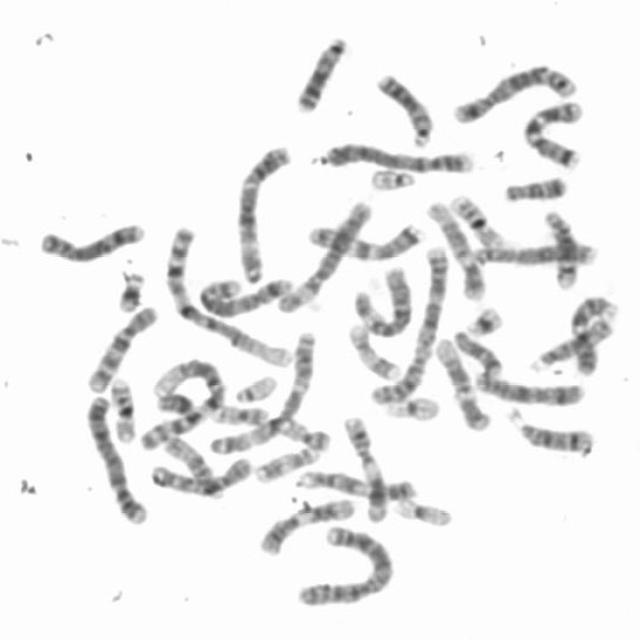A1: (162, 224, 296, 369), (138, 356, 229, 452)
A2: (369, 245, 452, 407), (294, 524, 395, 608)
A3: (206, 328, 316, 456), (235, 143, 294, 287)
B4: (83, 394, 152, 527), (324, 141, 474, 176)
B5: (451, 61, 580, 126), (196, 274, 293, 320)
C10: (83, 305, 159, 395), (150, 453, 254, 500)
C11: (256, 496, 356, 558), (340, 415, 389, 524)
C12: (424, 199, 487, 303), (433, 337, 494, 433)
C6: (273, 198, 373, 316), (352, 265, 414, 339)
C7: (306, 220, 425, 264), (521, 98, 585, 172)
C8: (38, 221, 148, 266), (472, 241, 598, 268)
C9: (569, 294, 620, 376), (302, 469, 419, 502)
D13: (375, 72, 434, 149), (294, 36, 350, 114)
D14: (503, 406, 596, 456), (540, 209, 582, 291)
D15: (528, 316, 615, 373), (163, 433, 226, 502)
E16: (447, 193, 508, 250), (109, 378, 138, 444)
E17: (346, 323, 403, 382), (255, 444, 322, 485)
E18: (452, 328, 503, 376), (501, 176, 571, 205)
F19: (392, 497, 454, 528), (386, 394, 440, 423)
F20: (280, 417, 332, 454), (211, 401, 271, 428)
G21: (462, 304, 507, 338), (115, 271, 147, 314)
G22: (234, 373, 278, 405), (366, 166, 418, 193)
X: (474, 370, 586, 408)
Y: (155, 393, 195, 417)
